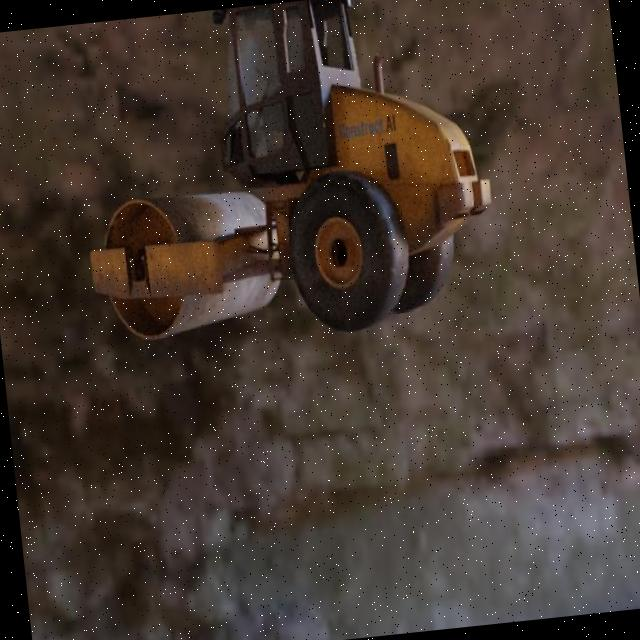Roller: (64, 0, 502, 359)
